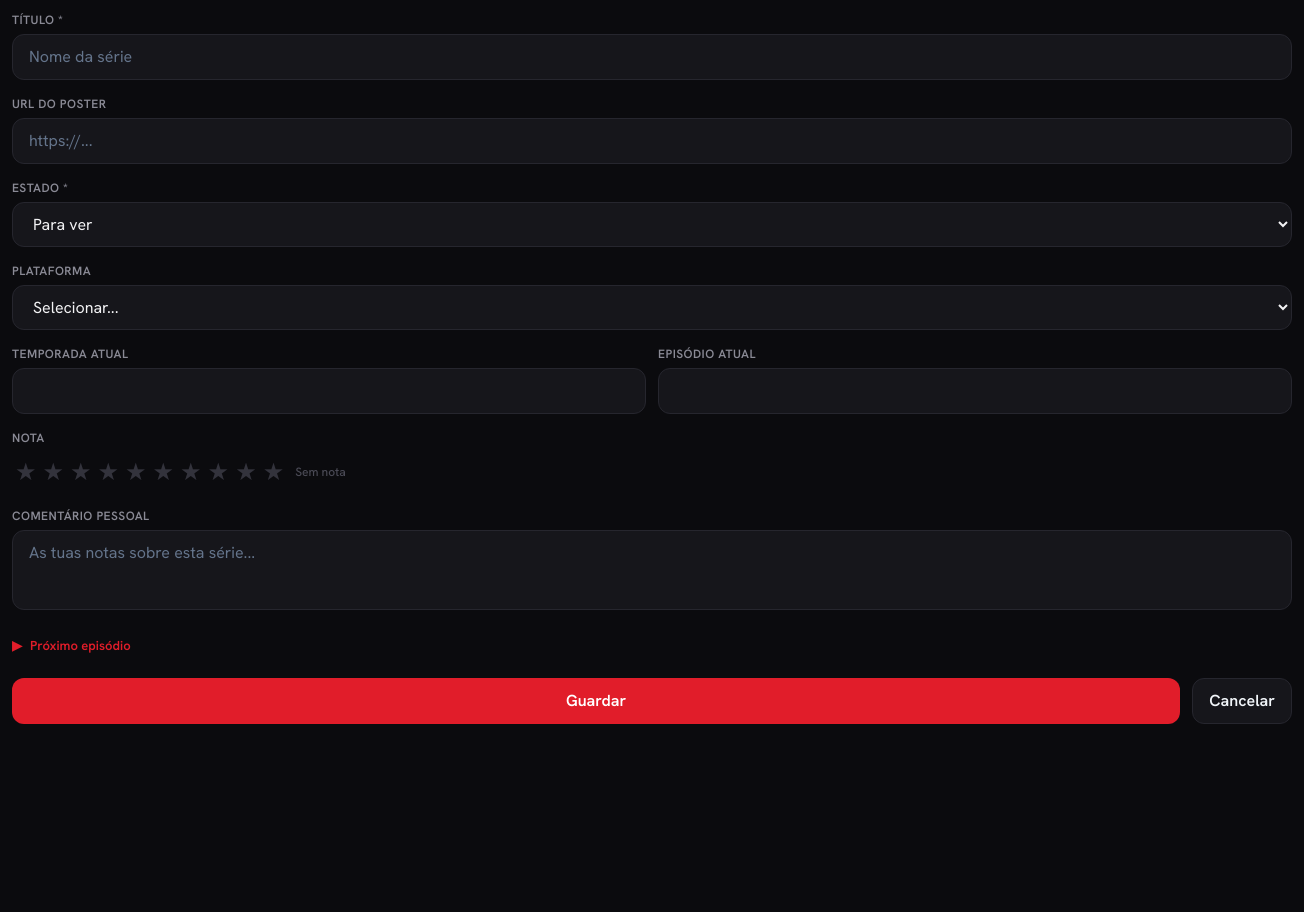
Test: SeriesForm › submission › shows a saving state while the submit is in progress
The width and height of the screenshot is (1304, 912).
Type "Test" into the field with placeholder "Nome da série" at (652, 57), box [12, 34, 1292, 80]
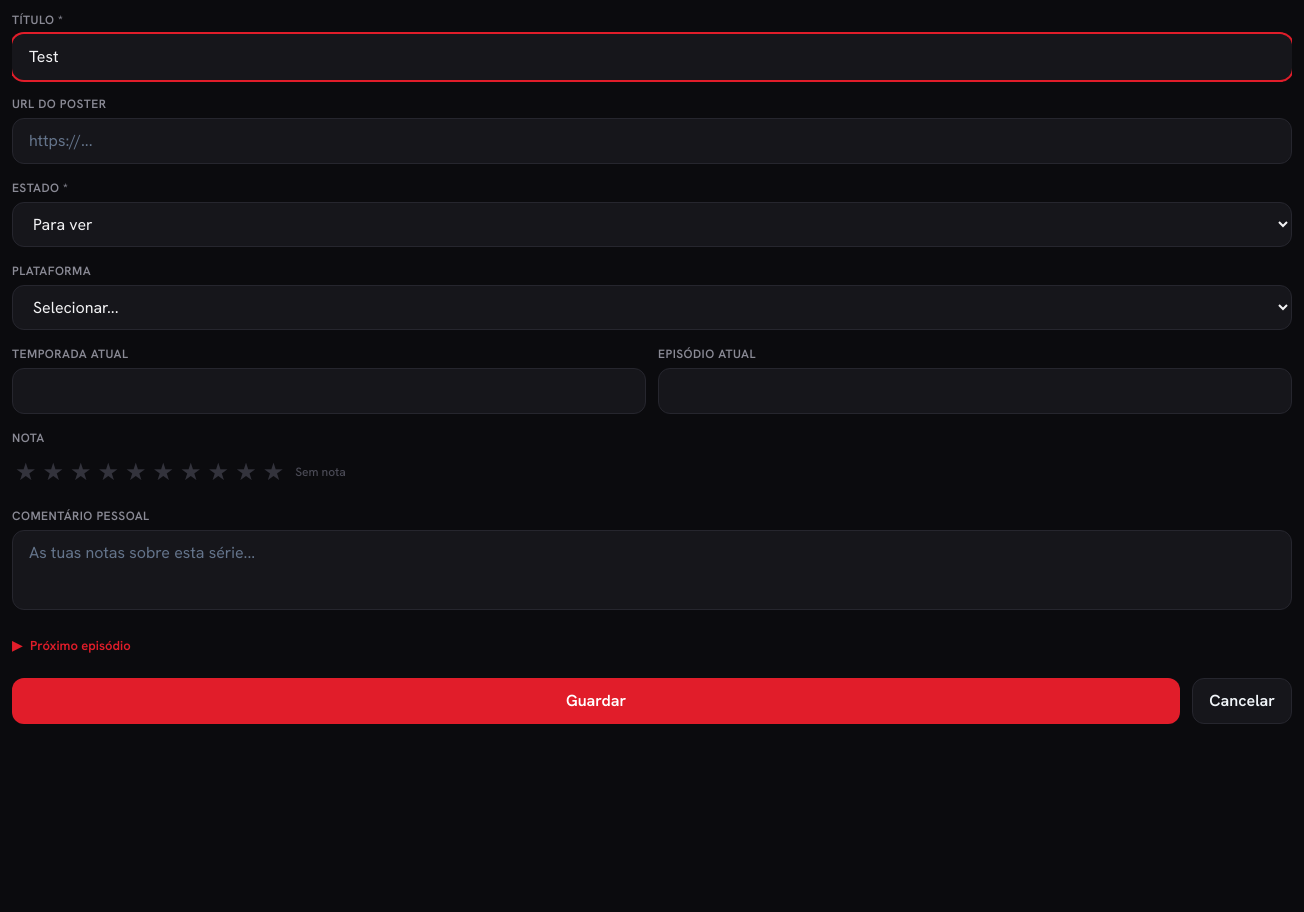
Click the button "Guardar" at (596, 701), box [12, 678, 1180, 724]
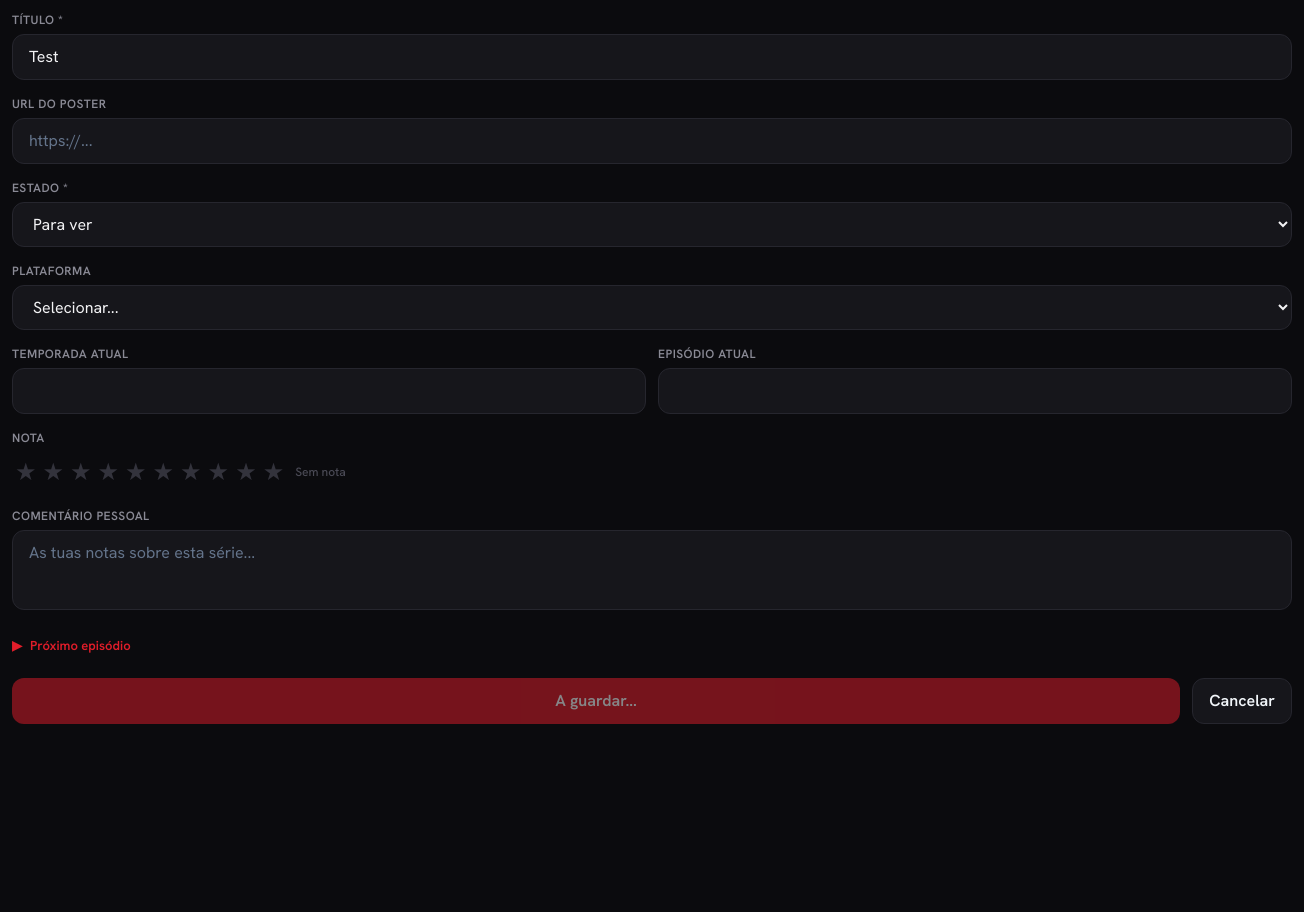
Now the button "A guardar..." is disabled, box [12, 678, 1180, 724]
